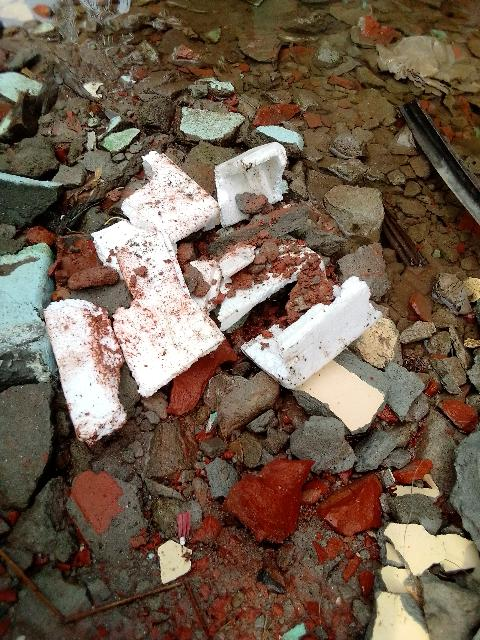cocksheet: (0, 137, 333, 455)
